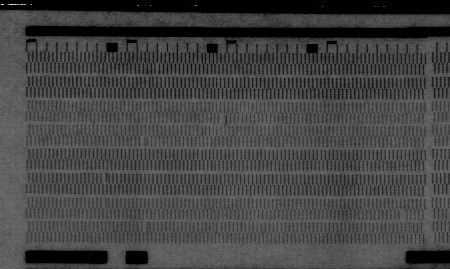Broken hole: (397, 210, 409, 223), (217, 111, 227, 125)
Oblique printing: (99, 172, 112, 187), (141, 222, 151, 235), (138, 136, 148, 147)
